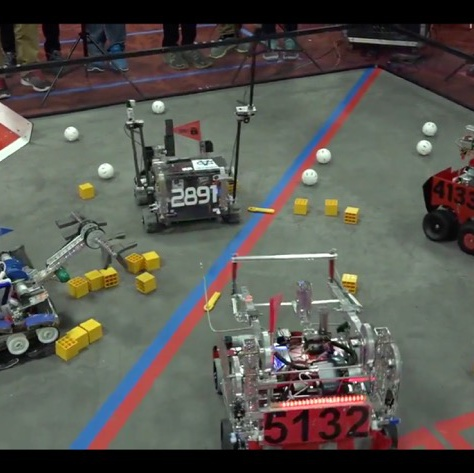robot: (205, 252, 406, 448), (120, 99, 247, 234), (0, 211, 108, 368), (418, 120, 474, 261)
